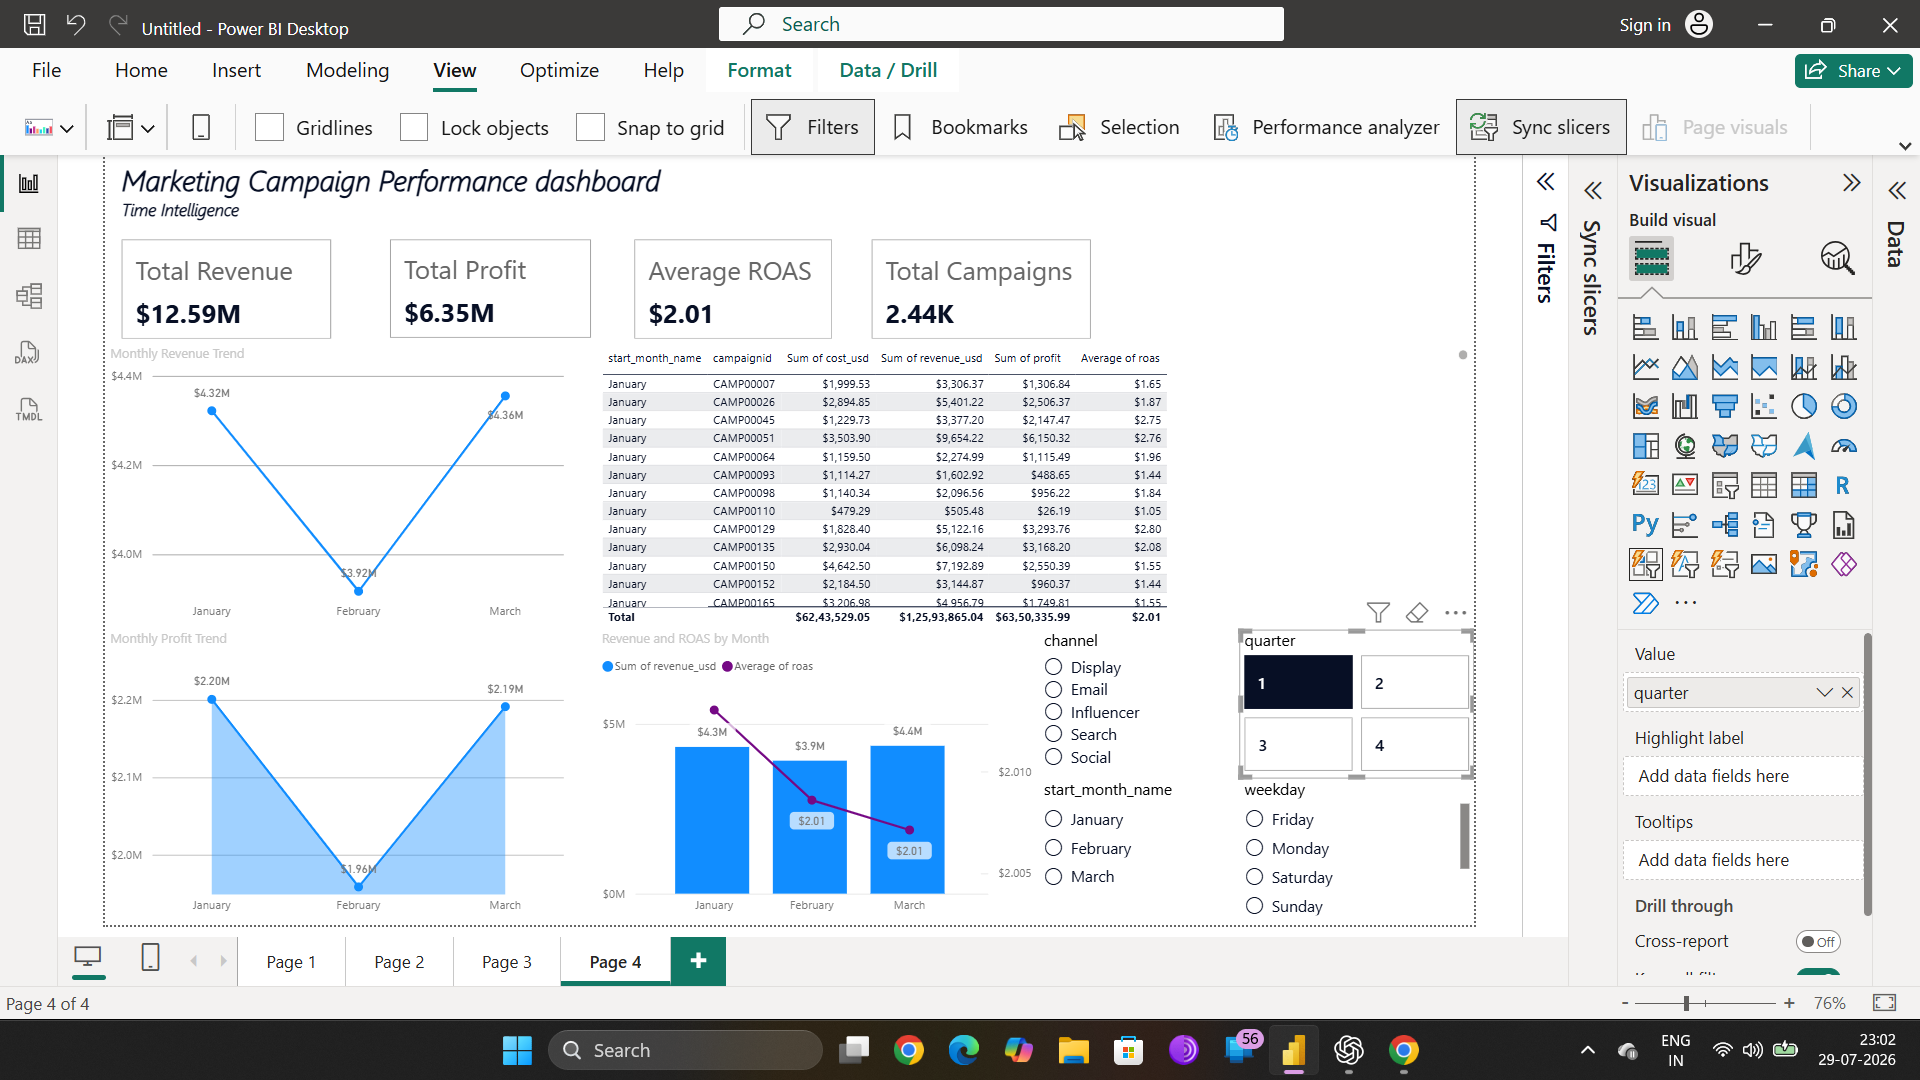

The dashboard page shown, as its layout file describes it:
{"tool":"powerbi","page":{"name":"Page 4","canvas":[1280,720],"ordinal":3},"visuals":[{"type":"textbox","box":[10,0,1270,74.3],"z":0},{"type":"cardVisual","fields":{"Data":["Sum(marketing_campaign_engineered.profit)"]},"box":[261.4,74.3,198.6,102.9],"z":1000},{"type":"cardVisual","fields":{"Data":["Avg(marketing_campaign_engineered.roas)"]},"box":[490,74,195.5,103],"z":2000},{"type":"cardVisual","fields":{"Data":["CountNonNull(marketing_campaign_engineered.campaignid)"]},"box":[711.9,74,215.3,103],"z":3000},{"type":"cardVisual","fields":{"Data":["Sum(marketing_campaign_engineered.revenue_usd)"]},"box":[10.6,74,206,103],"z":4000},{"type":"lineChart","title":"Monthly Revenue Trend","fields":{"Category":["marketing_campaign_engineered.start_month_name"],"Y":["Sum(marketing_campaign_engineered.revenue_usd)"]},"box":[0,177.1,434.3,267.1],"z":5000},{"type":"areaChart","title":"Monthly Profit Trend","fields":{"Category":["marketing_campaign_engineered.start_month_name"],"Y":["Sum(marketing_campaign_engineered.profit)"]},"box":[0,444.3,434.3,275.7],"z":6000},{"type":"lineClusteredColumnComboChart","title":"Revenue and ROAS by Month","fields":{"Category":["marketing_campaign_engineered.start_month_name"],"Y2":["Avg(marketing_campaign_engineered.roas)"],"Y":["Sum(marketing_campaign_engineered.revenue_usd)"]},"box":[460,444.3,412.9,275.7],"z":7000},{"type":"tableEx","fields":{"Values":["marketing_campaign_engineered.start_month_name","marketing_campaign_engineered.campaignid","Sum(marketing_campaign_engineered.cost_usd)","Sum(marketing_campaign_engineered.revenue_usd)","Sum(marketing_campaign_engineered.profit)","Avg(marketing_campaign_engineered.roas)"]},"box":[460,177.1,820,267.1],"z":8000},{"type":"listSlicer","fields":{"Values":["marketing_campaign_engineered.channel"]},"box":[872.9,444.3,187.1,138.6],"z":10000},{"type":"listSlicer","fields":{"Values":["marketing_campaign_engineered.start_month_name"]},"box":[872.9,582.9,187.1,137.1],"z":11000},{"type":"advancedSlicerVisual","fields":{"Values":["marketing_campaign_engineered.quarter"]},"box":[1060,444.3,220,138.6],"z":12000},{"type":"listSlicer","fields":{"Values":["marketing_campaign_engineered.weekday"]},"box":[1060,582.9,220,137.1],"z":13000}]}

Visuals, with their boxes on the page's 1280x720 design canvas (x1, y1, x2, y2). These are canvas units, not pixel positions in the 1920x1080 screenshot, which may show the page scaled, cropped or inside an application window:
textbox: x1=10, y1=0, x2=1280, y2=74
cardVisual - Sum(marketing_campaign_engineered.profit): x1=261, y1=74, x2=460, y2=177
cardVisual - Avg(marketing_campaign_engineered.roas): x1=490, y1=74, x2=686, y2=177
cardVisual - CountNonNull(marketing_campaign_engineered.campaignid): x1=712, y1=74, x2=927, y2=177
cardVisual - Sum(marketing_campaign_engineered.revenue_usd): x1=11, y1=74, x2=217, y2=177
"Monthly Revenue Trend" lineChart: x1=0, y1=177, x2=434, y2=444
"Monthly Profit Trend" areaChart: x1=0, y1=444, x2=434, y2=720
"Revenue and ROAS by Month" lineClusteredColumnComboChart: x1=460, y1=444, x2=873, y2=720
tableEx - marketing_campaign_engineered.start_month_name x marketing_campaign_engineered.campaignid: x1=460, y1=177, x2=1280, y2=444
listSlicer - marketing_campaign_engineered.channel: x1=873, y1=444, x2=1060, y2=583
listSlicer - marketing_campaign_engineered.start_month_name: x1=873, y1=583, x2=1060, y2=720
advancedSlicerVisual - marketing_campaign_engineered.quarter: x1=1060, y1=444, x2=1280, y2=583
listSlicer - marketing_campaign_engineered.weekday: x1=1060, y1=583, x2=1280, y2=720
